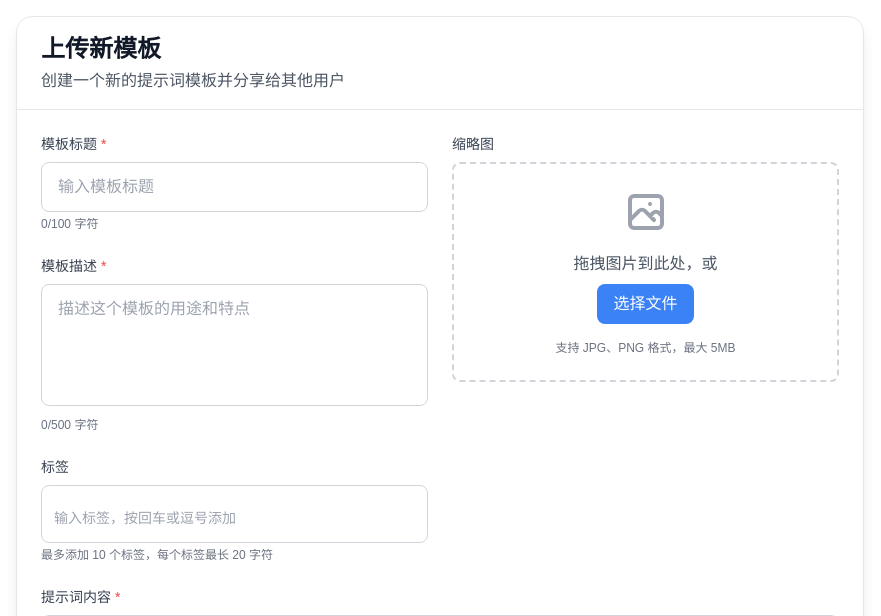
Test: TemplateUpload Component › handles title input correctly
Type "测试标题" into the field with test id "title-input" at [234, 187], box [41,162,428,212]
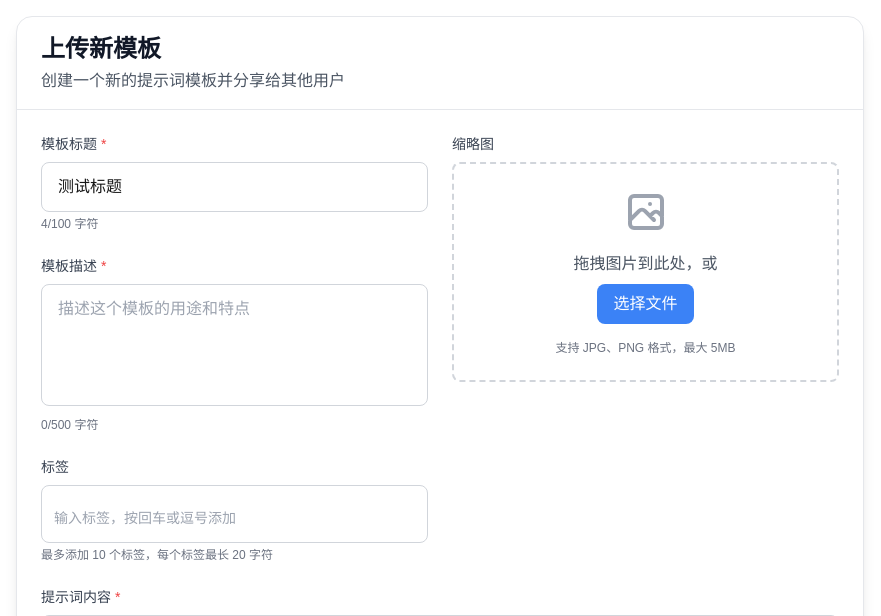
Expected: the text "4/100 字符" is shown, [41,217,98,231]
